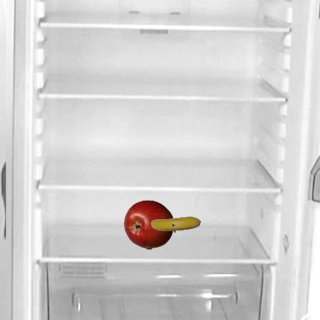Apple Braeburn: (123, 199, 173, 249)
Banana: (150, 199, 200, 249)
